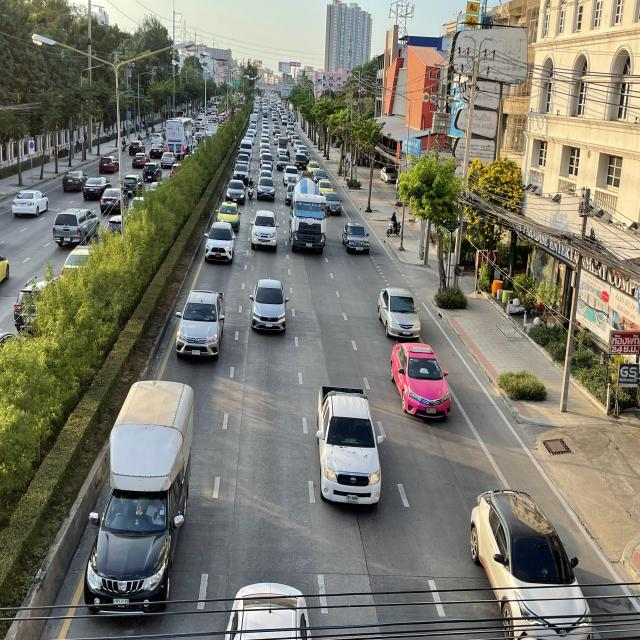bike: (248, 177, 254, 200)
car: (467, 485, 593, 640), (314, 383, 384, 507), (390, 339, 453, 420), (174, 288, 226, 362), (377, 286, 421, 338), (248, 278, 290, 332), (204, 222, 236, 264), (250, 209, 280, 252), (341, 220, 370, 255), (215, 202, 241, 232), (225, 179, 246, 205), (256, 176, 276, 202), (322, 192, 342, 216)
truck: (79, 378, 196, 618), (289, 171, 329, 255)
